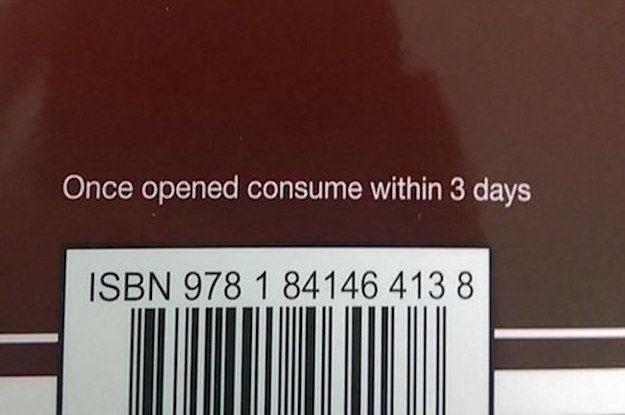barcode: (89, 267, 491, 415)
